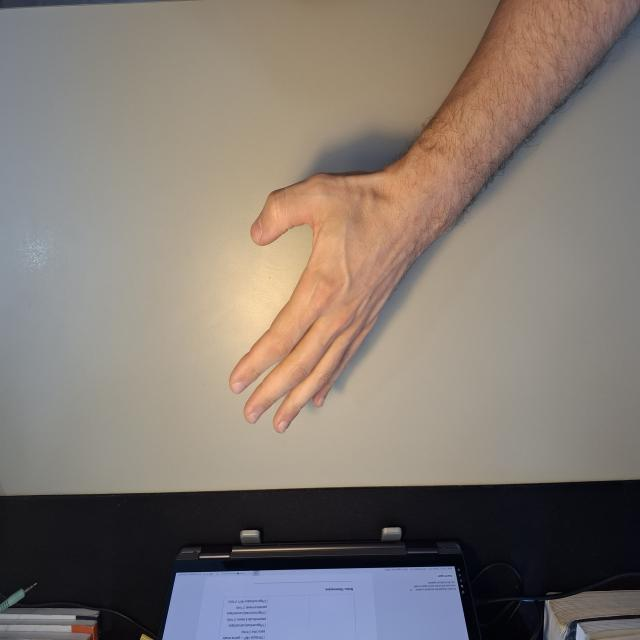glove_off: (227, 160, 415, 436)
